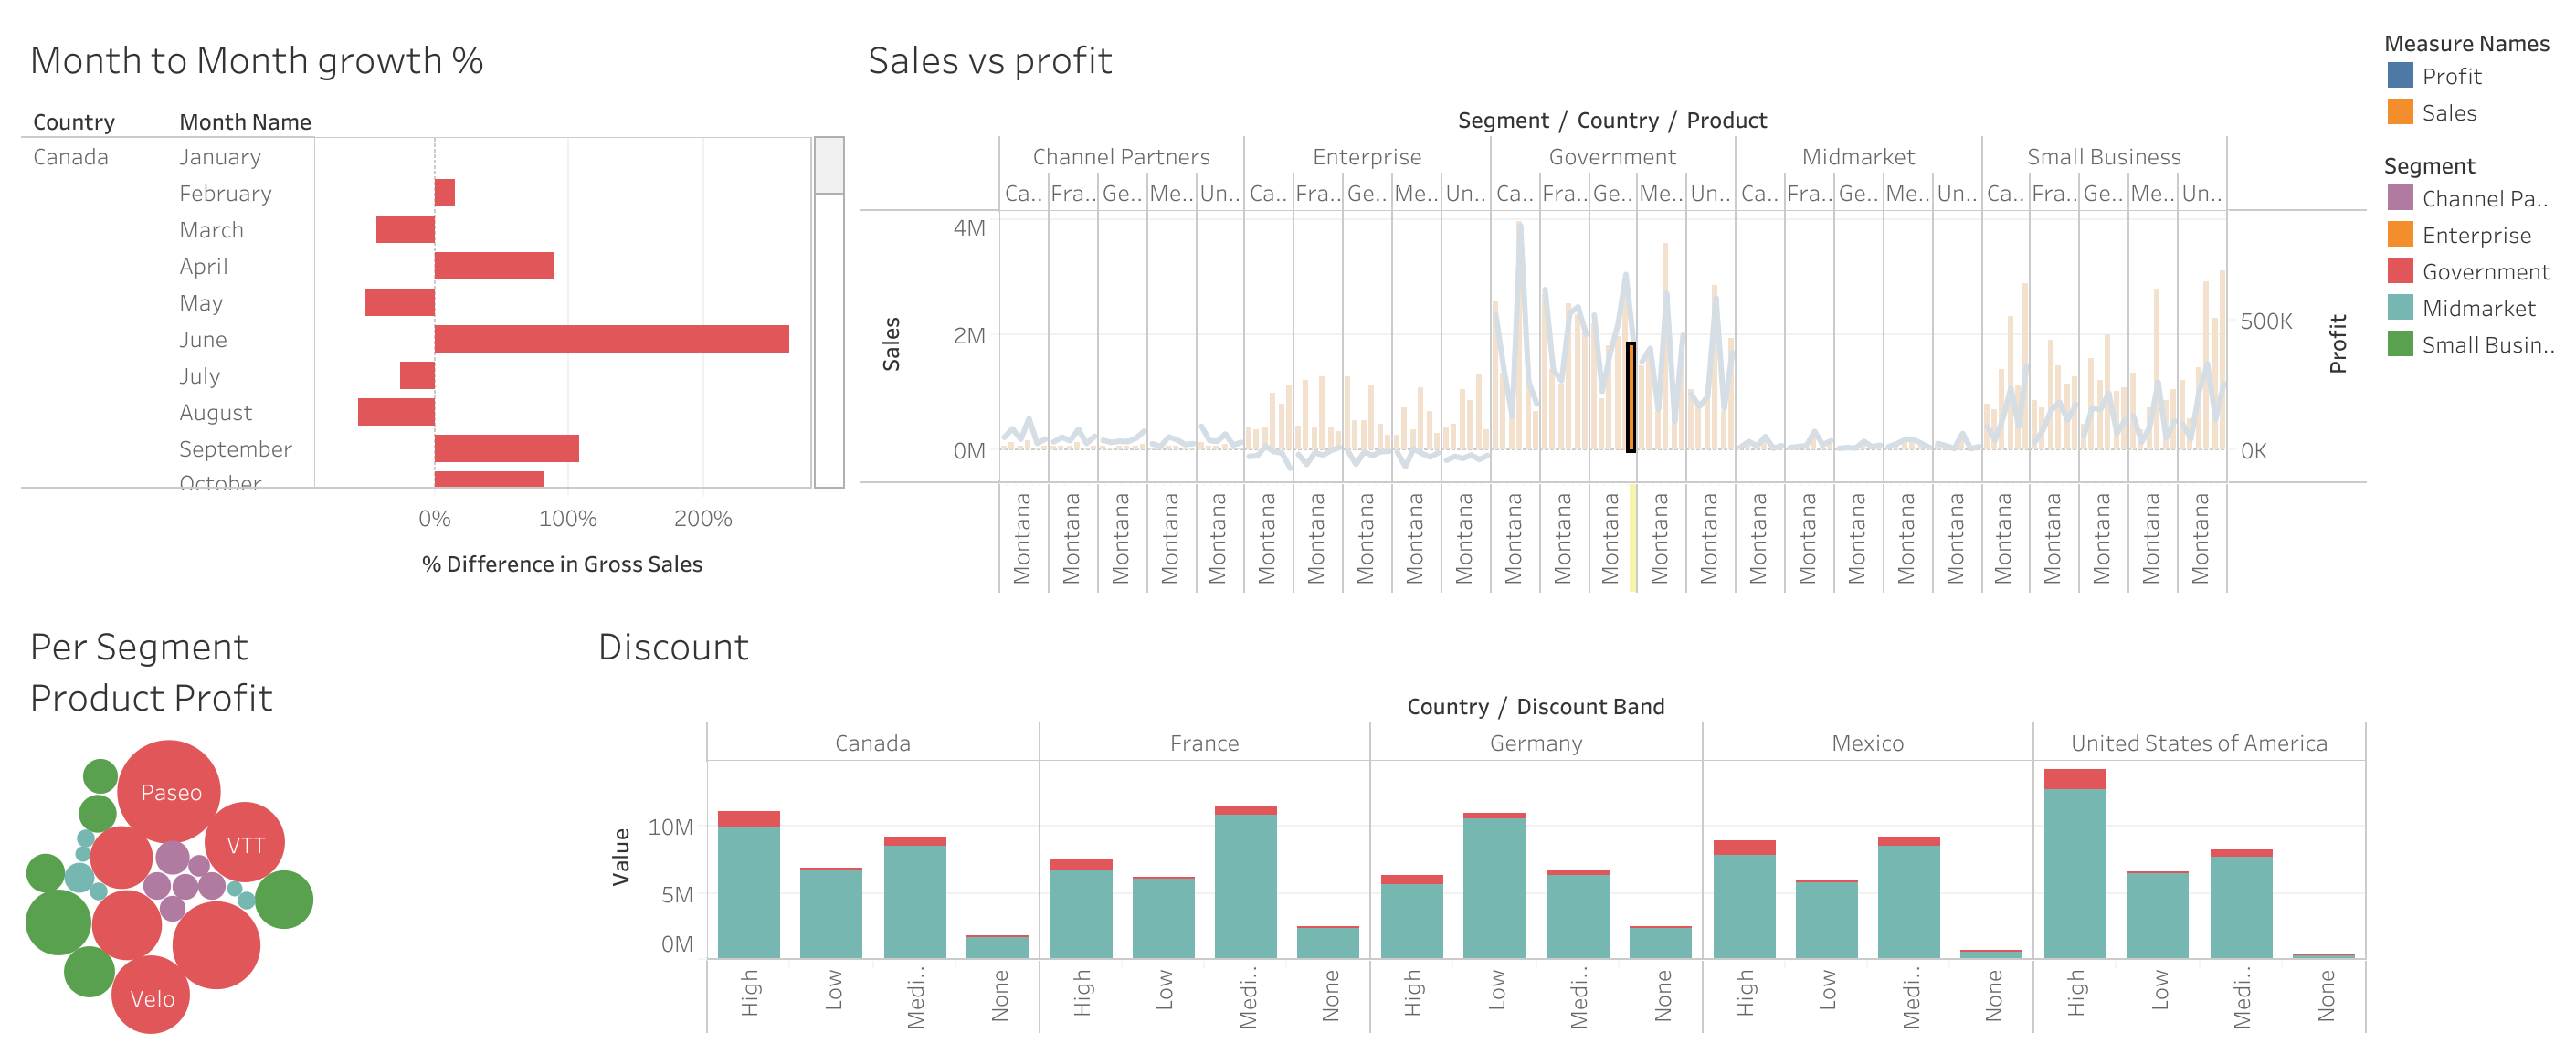

Layout of this report page (visuals, bound fields, positions):
{"tool":"tableau","page":{"name":"Dashboard 1","canvas":[1000,1000],"units":"permille","ordinal":0},"visuals":[{"type":"worksheet","title":"Month to Month growth %","mark":"Automatic","rows":["Country","Month Name"],"box":[6.5,11.4,320.8,557.6]},{"type":"worksheet","title":"Sales vs profit","mark":"Bar","rows":["Sales","Profit"],"cols":["Segment","Country","Product"],"box":[327.3,11.4,582.4,557.6]},{"type":"legend","title":"Sales vs profit","param":"[federated.11aot0x1h9x8v514evo1q1k96z77].[:Measure Names]","box":[909.7,11.4,83.8,93.9]},{"type":"legend","title":"Per Segment Product Profit","param":"[federated.11aot0x1h9x8v514evo1q1k96z77].[none:Segment:nk]","box":[909.7,105.3,83.8,179.2]},{"type":"worksheet","title":"Per Segment Product Profit","mark":"Circle","box":[6.5,569,217.2,419.7]},{"type":"worksheet","title":"Discount","mark":"Automatic","cols":["Country","Discount Band"],"box":[223.7,569,685.9,419.7]}]}

Visuals, with their boxes on the dashboard's canvas, which has no fixed pixel size, in thousandths of its width and height (x1, y1, x2, y2). These are canvas units, not pixel positions in the 2576x1054 screenshot, which may show the page scaled, cropped or inside an application window:
"Month to Month growth %" worksheet: {"left": 6, "top": 11, "right": 327, "bottom": 569}
"Sales vs profit" worksheet (Bar marks): {"left": 327, "top": 11, "right": 910, "bottom": 569}
"Sales vs profit" legend: {"left": 910, "top": 11, "right": 994, "bottom": 105}
"Per Segment Product Profit" legend: {"left": 910, "top": 105, "right": 994, "bottom": 284}
"Per Segment Product Profit" worksheet (Circle marks): {"left": 6, "top": 569, "right": 224, "bottom": 989}
"Discount" worksheet: {"left": 224, "top": 569, "right": 910, "bottom": 989}
